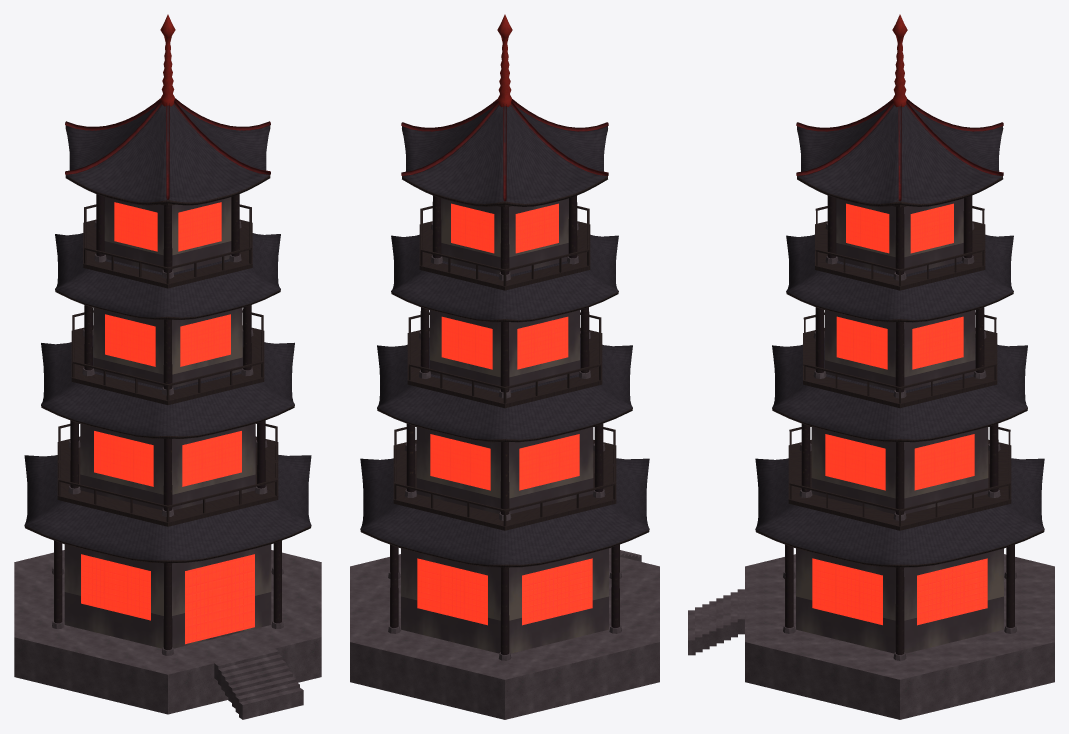
File: demon_library.glb
3 views of the same model, side by side, from view 1: azimuth 30°, elevation 25°; view 2: azimuth 150°, elevation 25°; view 3: azimuth 270°, elevation 25° (orthographic).
Parts seen in each view (by area): view 1: LibraryWalls, LibraryPlinth, LibraryWindows, LibraryCap, LibraryEave0, LibraryBalconies, LibraryEave1, LibraryEave2, LibraryPillars, LibraryPlinthSteps, LibraryCapRidges, LibraryPillarBases (+1 smaller); view 2: LibraryPlinth, LibraryWalls, LibraryWindows, LibraryCap, LibraryEave0, LibraryBalconies, LibraryEave1, LibraryEave2, LibraryPillars, LibraryCapRidges, LibraryPillarBases, LibrarySpire; view 3: LibraryPlinth, LibraryWalls, LibraryWindows, LibraryCap, LibraryEave0, LibraryBalconies, LibraryEave1, LibraryEave2, LibraryPillars, LibraryPlinthSteps, LibraryCapRidges, LibraryPillarBases (+1 smaller).
Part boxes in pixels (<box>): LibraryWalls: <box>64,197,271,648</box>; LibraryPlinth: <box>14,550,321,714</box>; LibraryWindows: <box>81,202,254,644</box>; LibraryCap: <box>65,104,270,205</box>; LibraryEave0: <box>24,455,311,562</box>; LibraryBalconies: <box>57,204,278,526</box>; LibraryEave1: <box>41,335,294,438</box>; LibraryEave2: <box>55,233,280,319</box>; LibraryPillars: <box>54,194,281,649</box>; LibraryPlinthSteps: <box>214,648,303,719</box>; LibraryCapRidges: <box>65,98,270,199</box>; LibraryPillarBases: <box>52,221,283,655</box>; LibraryPlinth: <box>350,554,659,719</box>; LibraryWalls: <box>401,198,608,653</box>; LibraryWindows: <box>417,203,592,625</box>; LibraryCap: <box>402,105,607,206</box>; LibraryEave0: <box>360,458,649,567</box>; LibraryBalconies: <box>393,206,616,530</box>; LibraryEave1: <box>377,337,632,442</box>; LibraryEave2: <box>391,234,618,322</box>; LibraryPillars: <box>390,195,619,654</box>; LibraryCapRidges: <box>401,99,608,201</box>; LibraryPillarBases: <box>388,222,621,660</box>; LibrarySpire: <box>497,14,512,107</box>; LibraryPlinth: <box>745,554,1054,719</box>; LibraryWalls: <box>796,198,1003,653</box>; LibraryWindows: <box>812,203,987,625</box>; LibraryCap: <box>797,105,1003,206</box>; LibraryEave0: <box>755,458,1044,567</box>; LibraryBalconies: <box>788,206,1011,530</box>; LibraryEave1: <box>772,337,1027,442</box>; LibraryEave2: <box>786,234,1013,322</box>; LibraryPillars: <box>785,195,1014,654</box>; LibraryPlinthSteps: <box>688,589,744,655</box>; LibraryCapRidges: <box>796,98,1003,201</box>; LibraryPillarBases: <box>783,222,1016,660</box>.
Size of what is drawn, in the model's own units: 16.17 by 31.43 by 16.58.
Materials: 9 (9 with a texture image).
